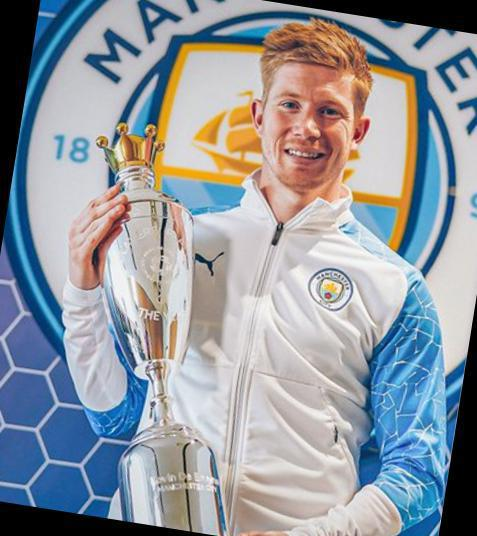Sober: (273, 65, 351, 177)
